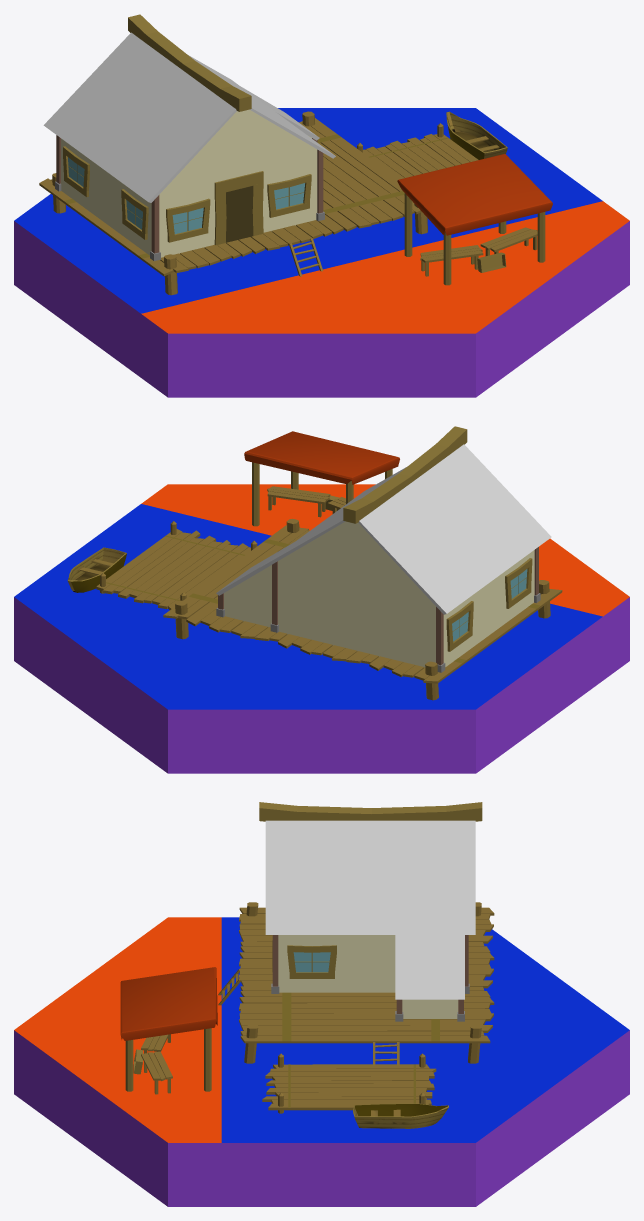
Rendered from Tuile_Village_Pecheur_Level4.fbx.
The picture shows the model from 3 angles, top to bottom: view 1: azimuth 30°, elevation 25°; view 2: azimuth 150°, elevation 25°; view 3: azimuth 270°, elevation 25°; orthographic projection.
Parts seen in each view (by area): view 1: Tuile, toit, mur maison, platforme 2, marché, fenetre, platorme 3, porte, table, Bateau.001, poutre; view 2: Tuile, mur maison, toit, platforme 2, platorme 3, marché, cabane, fenetre, Bateau.001, poutre, table; view 3: Tuile, toit, platforme 2, mur maison, platorme 3, marché, cabane toit, Bateau.001, fenetre, table, cabane, poutre.
Part boxes in pixels (<box>): Tuile: <box>14,108,629,397</box>; toit: <box>43,32,335,202</box>; mur maison: <box>61,14,317,257</box>; platforme 2: <box>39,111,427,295</box>; marché: <box>397,154,552,285</box>; fenetre: <box>63,146,311,242</box>; platorme 3: <box>357,123,478,179</box>; porte: <box>214,171,263,245</box>; table: <box>420,227,537,276</box>; Bateau.001: <box>446,111,507,159</box>; poutre: <box>55,135,324,261</box>; Tuile: <box>14,484,629,773</box>; mur maison: <box>278,426,534,667</box>; toit: <box>259,444,551,614</box>; platforme 2: <box>163,518,562,700</box>; platorme 3: <box>96,521,257,609</box>; marché: <box>244,431,399,526</box>; cabane: <box>224,565,271,627</box>; fenetre: <box>446,558,532,651</box>; Bateau.001: <box>67,547,126,592</box>; poutre: <box>270,547,540,672</box>; table: <box>267,486,345,517</box>; Tuile: <box>14,917,629,1206</box>; toit: <box>265,820,475,934</box>; platforme 2: <box>218,902,494,1063</box>; mur maison: <box>259,802,482,992</box>; platorme 3: <box>262,1042,436,1113</box>; marché: <box>120,967,217,1091</box>; cabane toit: <box>395,935,464,999</box>; Bateau.001: <box>353,1103,448,1128</box>; fenetre: <box>272,935,336,978</box>; table: <box>133,1034,172,1094</box>; cabane: <box>402,999,458,1018</box>; poutre: <box>271,935,469,993</box>.
Size of the model in its own units: 107 by 52.43 by 124.
